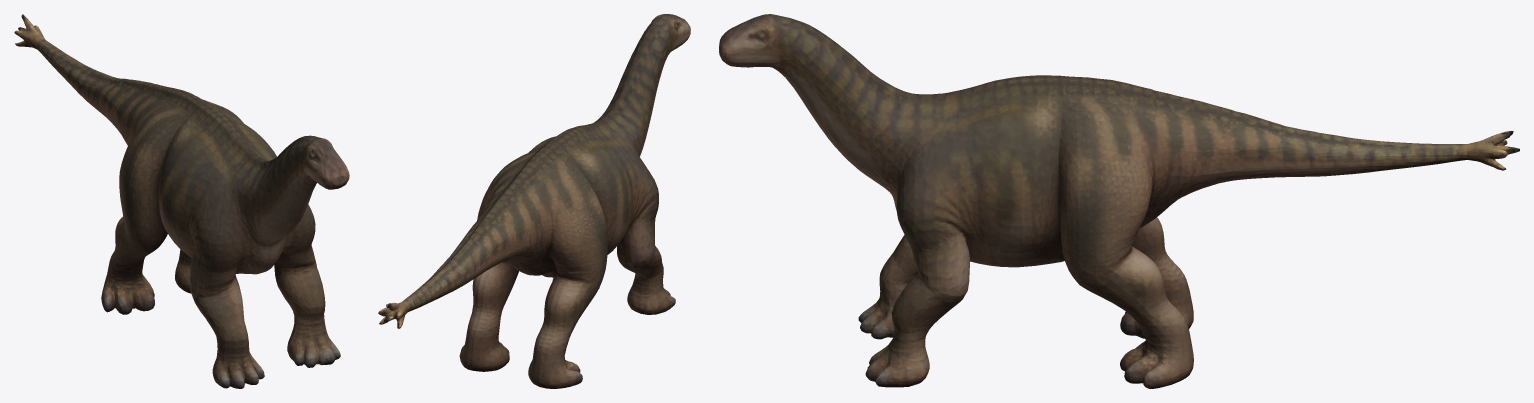
3 views of the same model, side by side, from view 1: azimuth 30°, elevation 25°; view 2: azimuth 150°, elevation 25°; view 3: azimuth 270°, elevation 25° (orthographic). The views are drawn at different scales.
Visible parts, largest first — view 1: world; view 2: world; view 3: world.
Part boxes in pixels (bbox=[...]): world: bbox=[14, 14, 349, 388]; world: bbox=[378, 14, 690, 388]; world: bbox=[719, 14, 1519, 388].
Size of the model in its own units: 2.23 by 4.41 by 9.5.
Materials: 1 (1 with a texture image).
